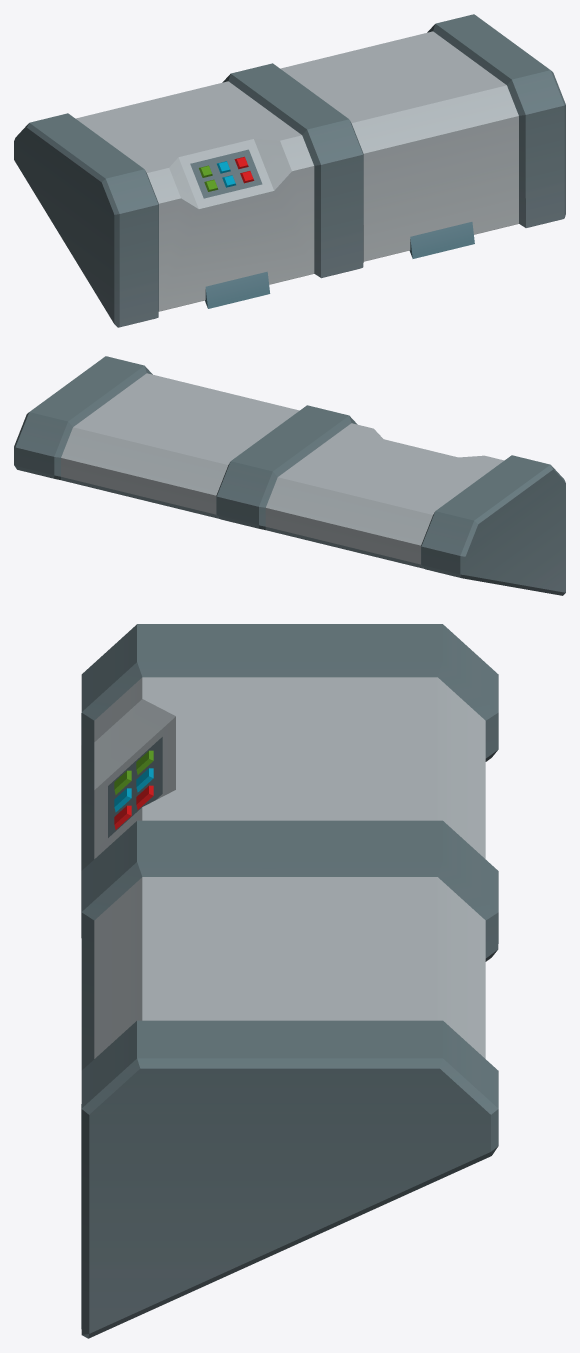
The model's file is Crate_011_cap_001.fbx.
3 views of the same model, one above another, from view 1: azimuth 30°, elevation 25°; view 2: azimuth 150°, elevation 25°; view 3: azimuth 270°, elevation 25° (orthographic). The views are drawn at different scales.
Visible parts, largest first — view 1: Crate_011_cap_001; view 2: Crate_011_cap_001; view 3: Crate_011_cap_001.
Part boxes in pixels (left/top/right/bottom): Crate_011_cap_001: left=14, top=14, right=565, bottom=327; Crate_011_cap_001: left=14, top=356, right=565, bottom=595; Crate_011_cap_001: left=81, top=624, right=498, bottom=1338.
Bounding box in the file's own units: 120 × 47.86 × 36.05.
